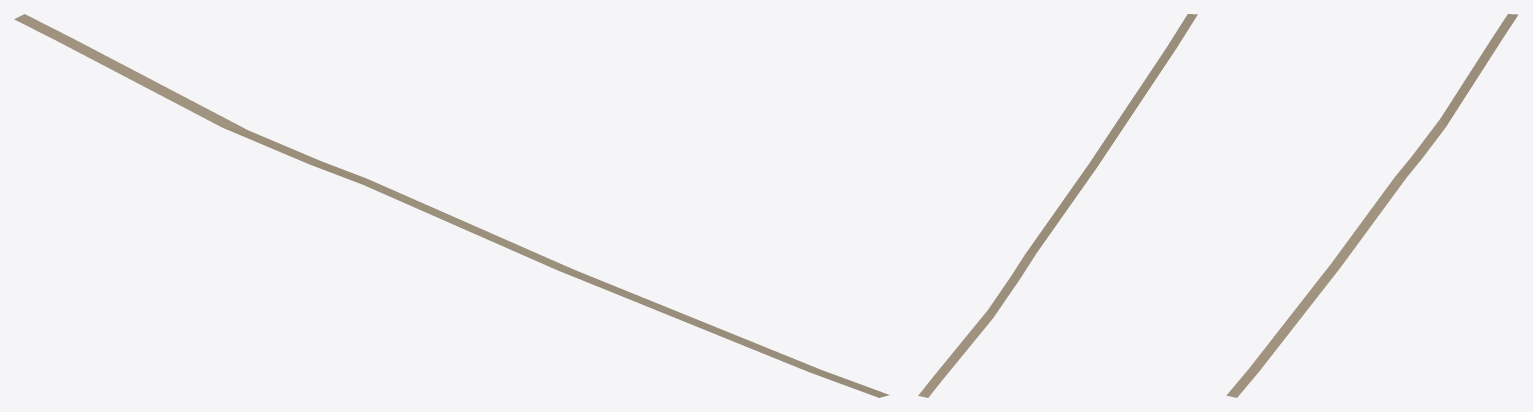
Rendered from farm_28_13_track.glb.
3 renders of one model, left to right at view 1: azimuth 30°, elevation 25°; view 2: azimuth 150°, elevation 25°; view 3: azimuth 330°, elevation 25°, orthographic. The views are drawn at different scales.
Parts seen in each view (by area): view 1: geometry_0; view 2: geometry_0; view 3: geometry_0.
Part boxes in pixels (left/top/right/bottom): geometry_0: left=14, top=14, right=889, bottom=397; geometry_0: left=918, top=14, right=1197, bottom=397; geometry_0: left=1226, top=14, right=1517, bottom=397.
Size of the model in its own units: 67.5 by 6.59 by 278.
